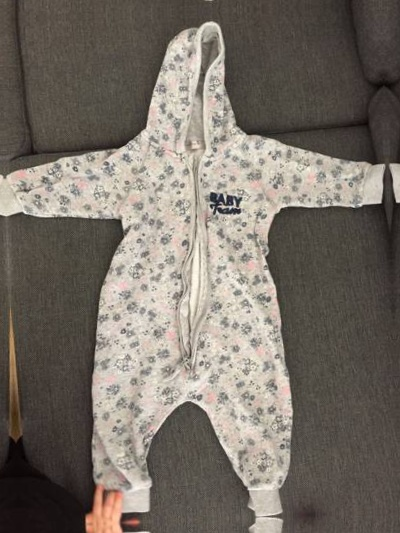Body: (4, 14, 400, 524), (384, 0, 400, 508), (25, 515, 400, 533), (0, 30, 13, 533), (0, 0, 378, 9), (0, 531, 34, 533)
